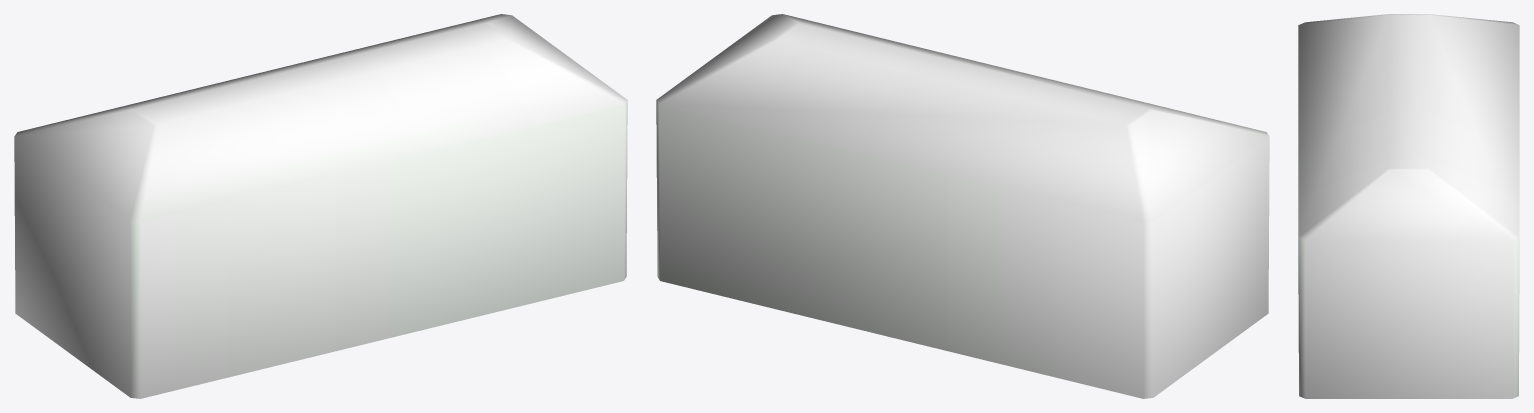
Rendered from GRAVEBIG_COLLISION.glb.
3 views of the same model, side by side, from view 1: azimuth 30°, elevation 25°; view 2: azimuth 150°, elevation 25°; view 3: azimuth 270°, elevation 25° (orthographic). The views are drawn at different scales.
Visible parts, largest first — view 1: Mesh; view 2: Mesh; view 3: Mesh.
Boxes of the visible parts, x1,y1,x2,y2 form: Mesh: (14,14,627,398); Mesh: (656,14,1269,398); Mesh: (1298,14,1519,398).
Size of the model in its own units: 2.43 by 1.03 by 1.04.
1 material, 1 textured.
